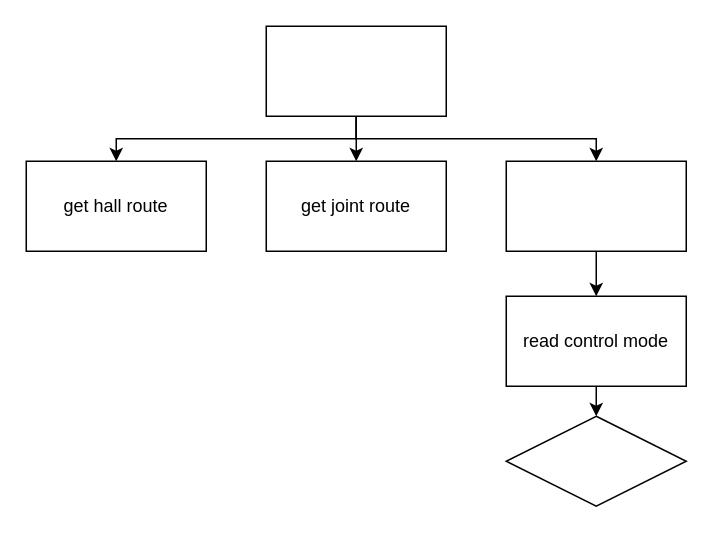
Some shapes in this 713 by 533 pixel diagram are drawn without their labels. Here are the shapes that lost their labels. From the top down, the centre of each, then its label:
At pixel 355 70: "load config".
At pixel 595 205: "get control mode".
